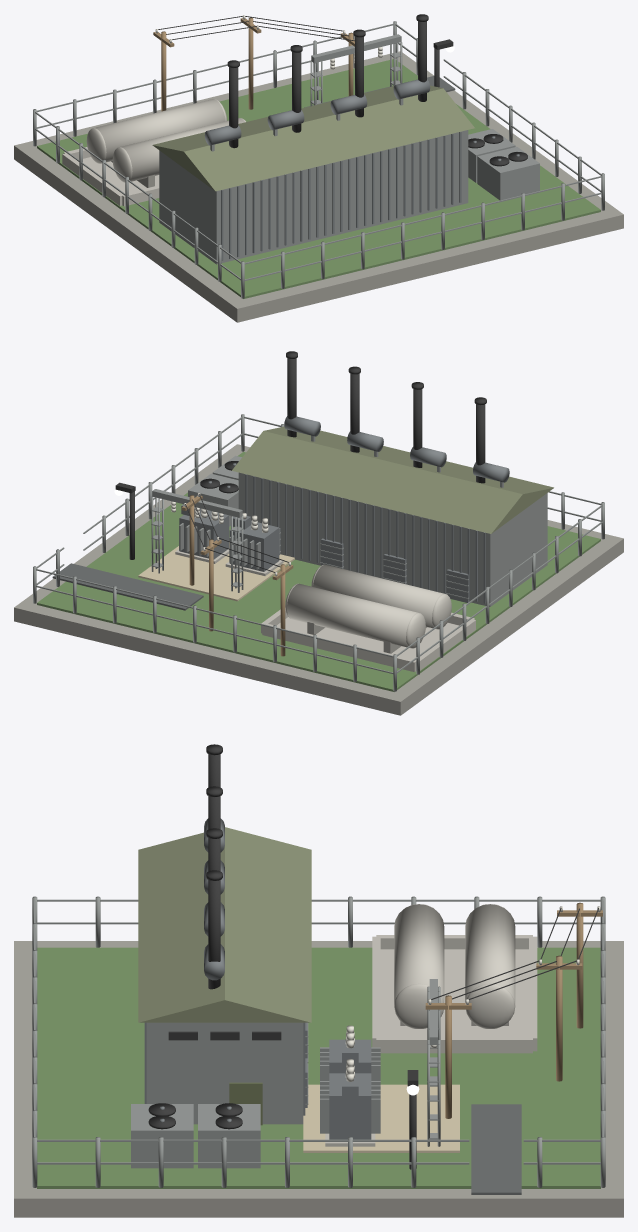
The model's file is power_4.glb.
3 views of the same model, one above another, from view 1: azimuth 30°, elevation 25°; view 2: azimuth 150°, elevation 25°; view 3: azimuth 270°, elevation 25° (orthographic). The views are drawn at different scales.
Visible parts, largest first — view 1: Cube.001, Cube.003, Cube, prism, Cylinder.021, Cube.098, Cylinder.020, Cube.099, Cube.162, Cube.104, Cube.157, Cube.146 (+17 smaller); view 2: Cube.001, Cube, Cube.003, prism, Cylinder.021, Cylinder.020, Cube.109, Cube.002, Cube.101, Cube.100, Cube.110, Cube.123 (+22 smaller); view 3: Cube.001, prism, Cube, Cube.003, Cube.109, Cube.100, Cube.002, Cylinder.021, Cylinder.020, Cube.099, Cube.098, Cube.103 (+16 smaller).
Part boxes in pixels (x1,y1,x2,y2): Cube.001: (37, 59, 600, 298); Cube.003: (159, 130, 468, 264); Cube: (14, 51, 623, 322); prism: (152, 85, 474, 191); Cylinder.021: (95, 99, 225, 162); Cube.098: (477, 146, 539, 200); Cylinder.020: (119, 118, 244, 181); Cube.099: (468, 129, 515, 182); Cube.162: (244, 176, 601, 264); Cube.104: (62, 153, 122, 205); Cube.157: (244, 192, 601, 280); Cube.146: (311, 34, 401, 63); Cube.001: (37, 452, 600, 691); Cube: (14, 444, 623, 715); Cube.003: (238, 472, 547, 606); prism: (232, 426, 553, 533); Cylinder.021: (287, 583, 417, 647); Cylinder.020: (313, 564, 444, 628); Cube.109: (138, 542, 294, 601); Cube.002: (52, 563, 203, 610); Cube.101: (262, 624, 415, 671); Cube.100: (277, 617, 458, 659); Cube.110: (229, 520, 279, 571); Cube.123: (179, 508, 228, 559); Cube.001: (37, 947, 600, 1188); prism: (138, 827, 311, 1022); Cube: (14, 941, 623, 1217); Cube.003: (146, 1022, 303, 1124); Cube.109: (303, 1084, 459, 1152); Cube.100: (380, 949, 528, 1036); Cube.002: (471, 1104, 521, 1194); Cylinder.021: (465, 904, 515, 1004); Cylinder.020: (394, 904, 444, 1004); Cube.099: (198, 1104, 260, 1168); Cube.098: (131, 1104, 193, 1168); Cube.103: (376, 1036, 532, 1053).
Bounding box in the file's own units: 2.92 × 1.37 × 2.92.
